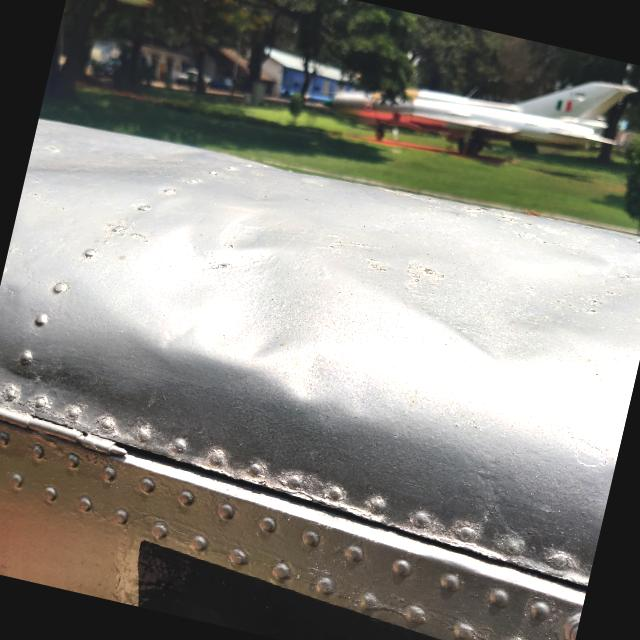dent: (81, 166, 371, 436)
